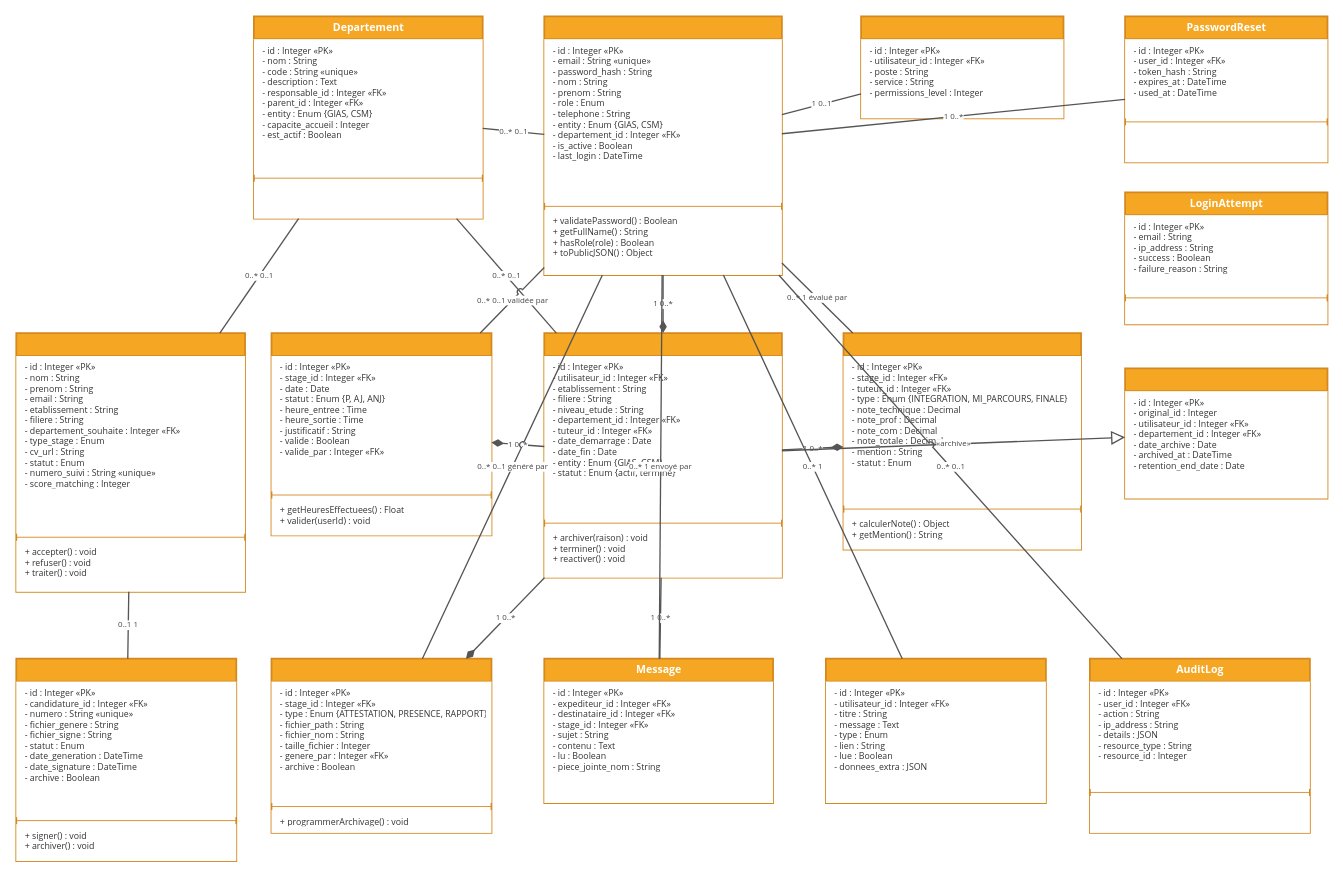
The diagram is 1343 pixels wide and 878 high, and some of its shapes have lost their labels. Here are the shapes that lost their labels. From the top down, the box of each, then its label:
(860, 15, 1064, 119): Admin
(543, 15, 782, 275): Utilisateur
(1125, 125, 1327, 162): + isValid() : Boolean + createToken() : Object
(253, 181, 482, 218): + deactivate() : void + activate() : void
(1125, 301, 1327, 324): + record(data) : LoginAttempt
(270, 332, 492, 536): Presence
(842, 332, 1082, 550): Evaluation
(1124, 367, 1328, 499): StagiaireArchive
(15, 332, 246, 592): Candidature
(543, 332, 782, 578): Stagiaire
(270, 657, 492, 833): Document
(825, 657, 1046, 803): Notification
(15, 657, 237, 862): Convention
(1089, 796, 1309, 832): + log(data) : AuditLog + getUserLogs() : List
